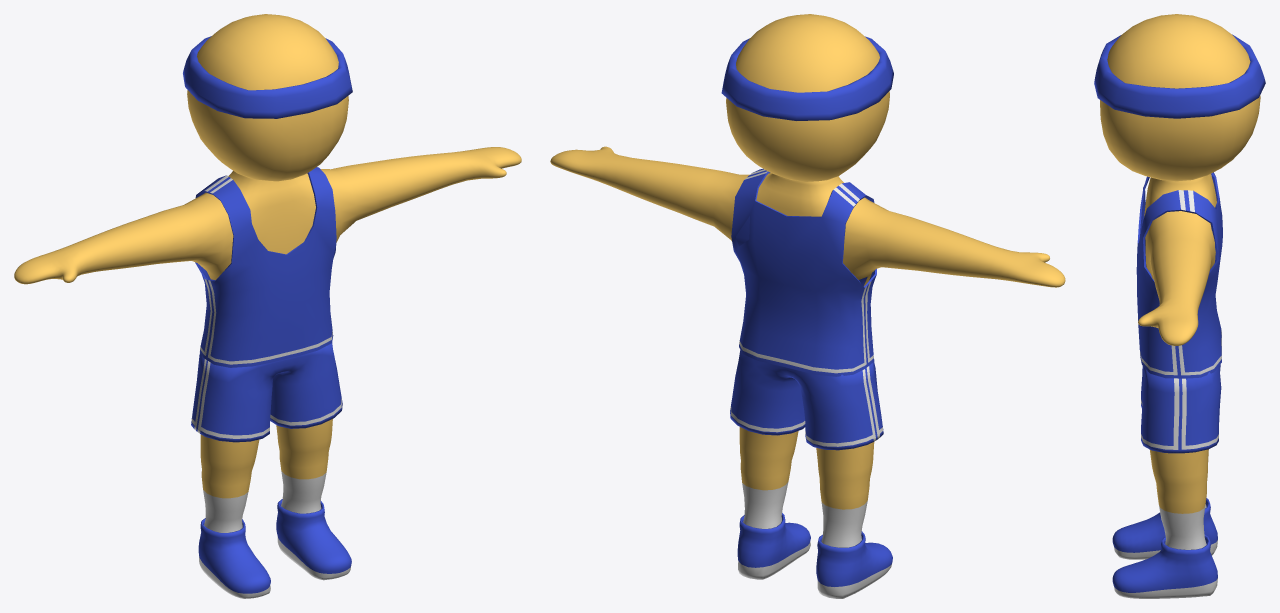
Rendered from Character-3.fbx.
The picture shows the model from 3 angles, left to right: view 1: azimuth 30°, elevation 25°; view 2: azimuth 150°, elevation 25°; view 3: azimuth 270°, elevation 25°; orthographic projection.
Parts seen in each view (by area): view 1: Cube.014, basketballer1-jersey.003, Cube.008, Cube.031, Cube.007; view 2: Cube.014, basketballer1-jersey.003, Cube.008, Cube.007, Cube.031; view 3: Cube.014, basketballer1-jersey.003, Cube.008, Cube.031, Cube.007.
Part boxes in pixels (x1,y1,x2,y2): Cube.014: [14, 14, 521, 532]; basketballer1-jersey.003: [195, 166, 336, 367]; Cube.008: [191, 342, 342, 442]; Cube.031: [276, 499, 351, 580]; Cube.007: [198, 518, 270, 598]; Cube.014: [550, 14, 1065, 547]; basketballer1-jersey.003: [731, 168, 876, 376]; Cube.008: [730, 350, 883, 450]; Cube.007: [816, 531, 892, 598]; Cube.031: [737, 513, 810, 579]; Cube.014: [1094, 14, 1265, 549]; basketballer1-jersey.003: [1136, 172, 1222, 378]; Cube.008: [1141, 364, 1221, 453]; Cube.031: [1112, 534, 1217, 598]; Cube.007: [1112, 498, 1217, 559].
Size of the model in its own units: 5.98 by 6.18 by 1.75.
